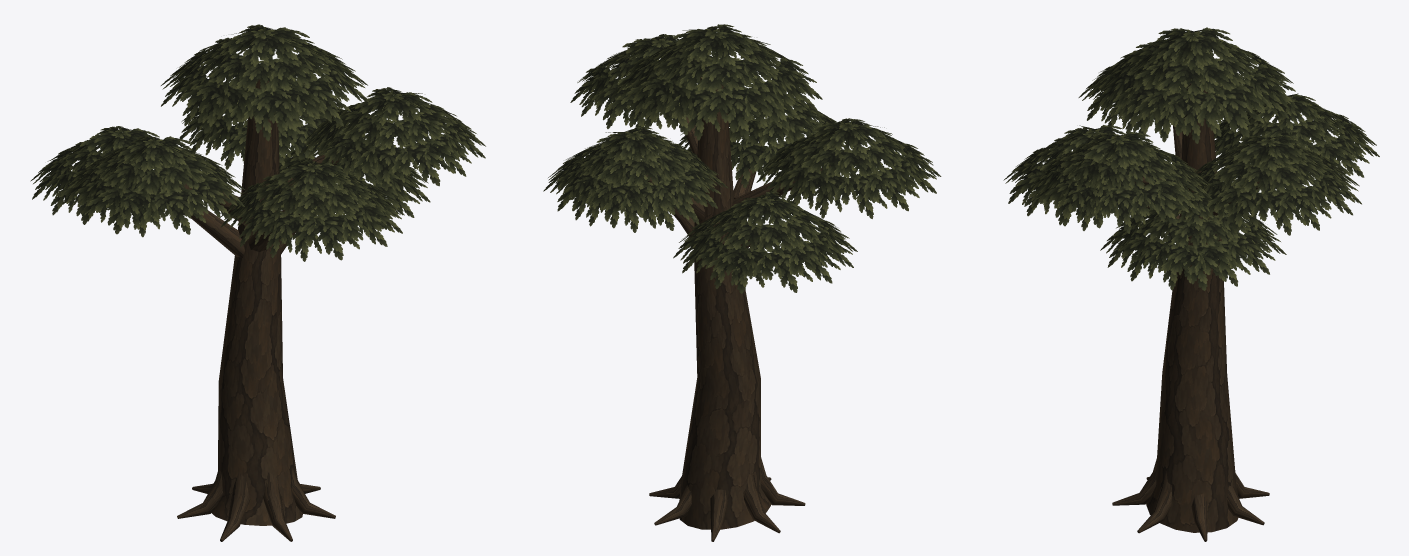
The picture shows the model from 3 angles, left to right: view 1: azimuth 30°, elevation 25°; view 2: azimuth 150°, elevation 25°; view 3: azimuth 270°, elevation 25°; orthographic projection.
Parts seen in each view (by area): view 1: Great tapering trunk, Layered oak leaf fan.196, Layered oak leaf fan.194, Layered oak leaf fan.080, Layered oak leaf fan.167, Layered oak leaf fan.138, Layered oak leaf fan.136, Layered oak leaf fan.197, Layered oak leaf fan.139, Layered oak leaf fan.177, Layered oak leaf fan.166, Layered oak leaf fan.078 (+47 smaller); view 2: Great tapering trunk, Layered oak leaf fan.191, Layered oak leaf fan.189, Layered oak leaf fan.182, Layered oak leaf fan.103, Layered oak leaf fan.045, Layered oak leaf fan.190, Layered oak leaf fan.134, Layered oak leaf fan.046, Layered oak leaf fan.105, Layered oak leaf fan.131, Layered oak leaf fan.176 (+50 smaller); view 3: Great tapering trunk, Layered oak leaf fan.201, Layered oak leaf fan.026, Layered oak leaf fan.112, Layered oak leaf fan.172, Layered oak leaf fan.199, Layered oak leaf fan.198, Layered oak leaf fan.169, Layered oak leaf fan.171, Layered oak leaf fan.188, Layered oak leaf fan.113, Layered oak leaf fan.024 (+47 smaller).
Part boxes in pixels (<box>): Great tapering trunk: <box>212,79,302,525</box>; Layered oak leaf fan.196: <box>244,86,327,139</box>; Layered oak leaf fan.194: <box>180,80,253,133</box>; Layered oak leaf fan.080: <box>295,214,369,260</box>; Layered oak leaf fan.167: <box>391,140,461,186</box>; Layered oak leaf fan.138: <box>143,189,214,234</box>; Layered oak leaf fan.136: <box>87,187,158,234</box>; Layered oak leaf fan.197: <box>296,77,350,126</box>; Layered oak leaf fan.139: <box>187,177,237,220</box>; Layered oak leaf fan.177: <box>220,30,292,69</box>; Layered oak leaf fan.166: <box>354,144,417,190</box>; Layered oak leaf fan.078: <box>252,211,308,258</box>; Great tapering trunk: <box>679,77,770,529</box>; Layered oak leaf fan.191: <box>697,86,778,139</box>; Layered oak leaf fan.189: <box>627,77,693,129</box>; Layered oak leaf fan.182: <box>697,58,778,93</box>; Layered oak leaf fan.103: <box>585,181,648,228</box>; Layered oak leaf fan.045: <box>707,246,781,293</box>; Layered oak leaf fan.190: <box>665,87,735,140</box>; Layered oak leaf fan.134: <box>863,167,921,211</box>; Layered oak leaf fan.046: <box>752,248,821,292</box>; Layered oak leaf fan.105: <box>652,176,708,219</box>; Layered oak leaf fan.131: <box>775,166,831,208</box>; Layered oak leaf fan.176: <box>689,31,759,72</box>; Great tapering trunk: <box>1146,84,1238,532</box>; Layered oak leaf fan.201: <box>1196,86,1270,137</box>; Layered oak leaf fan.026: <box>1161,244,1238,290</box>; Layered oak leaf fan.112: <box>1207,186,1275,233</box>; Layered oak leaf fan.172: <box>1130,181,1191,225</box>; Layered oak leaf fan.199: <box>1134,88,1203,142</box>; Layered oak leaf fan.198: <box>1113,84,1169,133</box>; Layered oak leaf fan.169: <box>1045,179,1099,225</box>; Layered oak leaf fan.171: <box>1094,187,1155,233</box>; Layered oak leaf fan.188: <box>1159,62,1239,99</box>; Layered oak leaf fan.113: <box>1251,189,1315,235</box>; Layered oak leaf fan.024: <box>1118,236,1171,281</box>.
Bounding box in the file's own units: 39.89 × 46.19 × 35.34.
3 materials, 2 textured.
